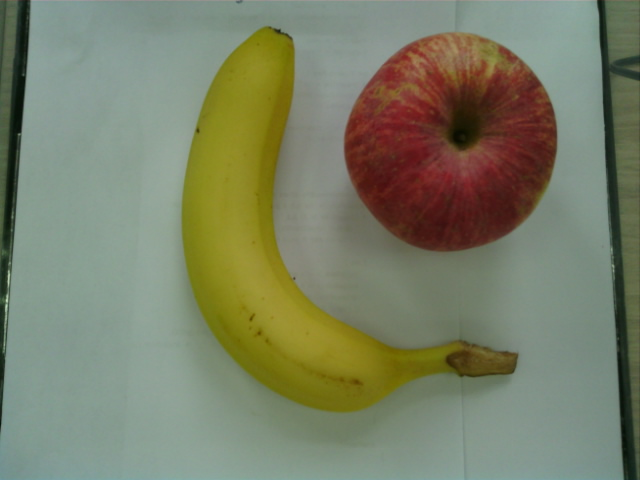normal_apple: (347, 31, 559, 256)
normal_banana: (180, 24, 519, 416)
